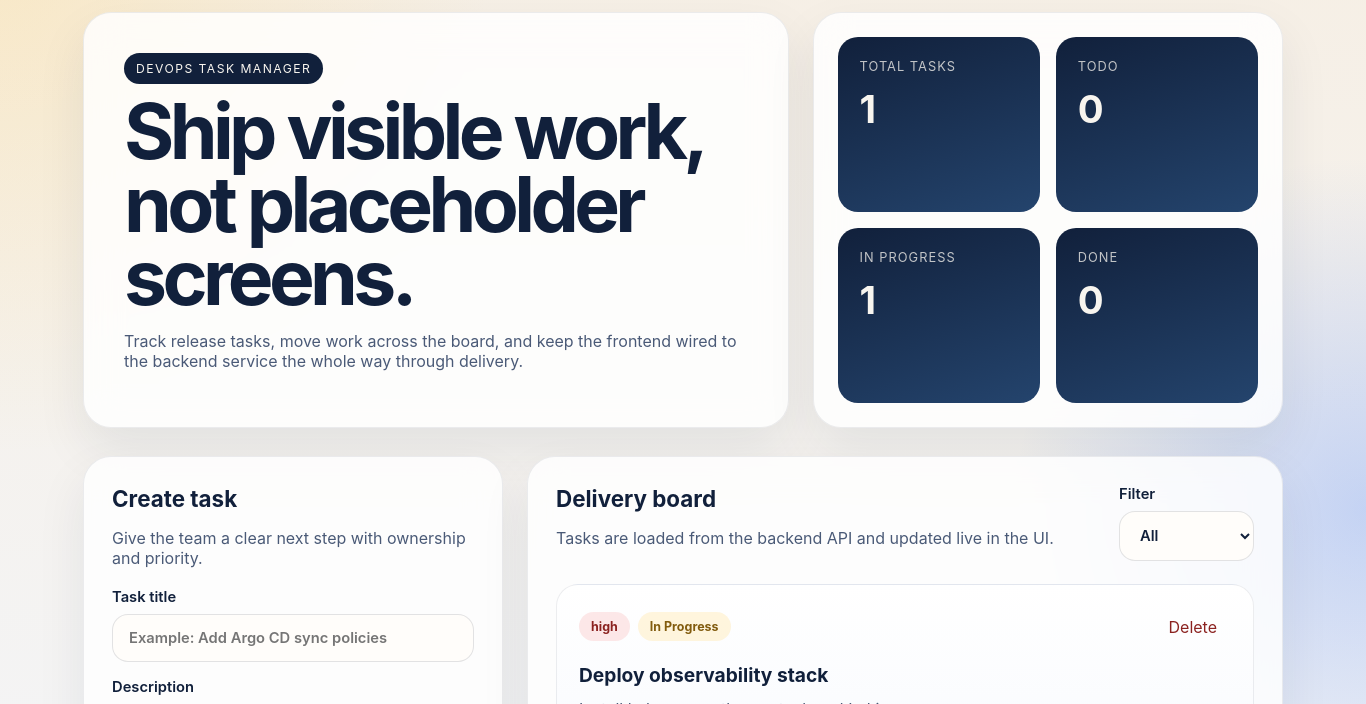
Test: App › creates a task from the form
The image size is (1366, 704).
Expected: the heading "Deploy observability stack" is shown, [579,663,828,687]
Type "Create frontend board" into the field labelled "Task title" at (293, 638), box [112,614,474,662]
(page scrolled)
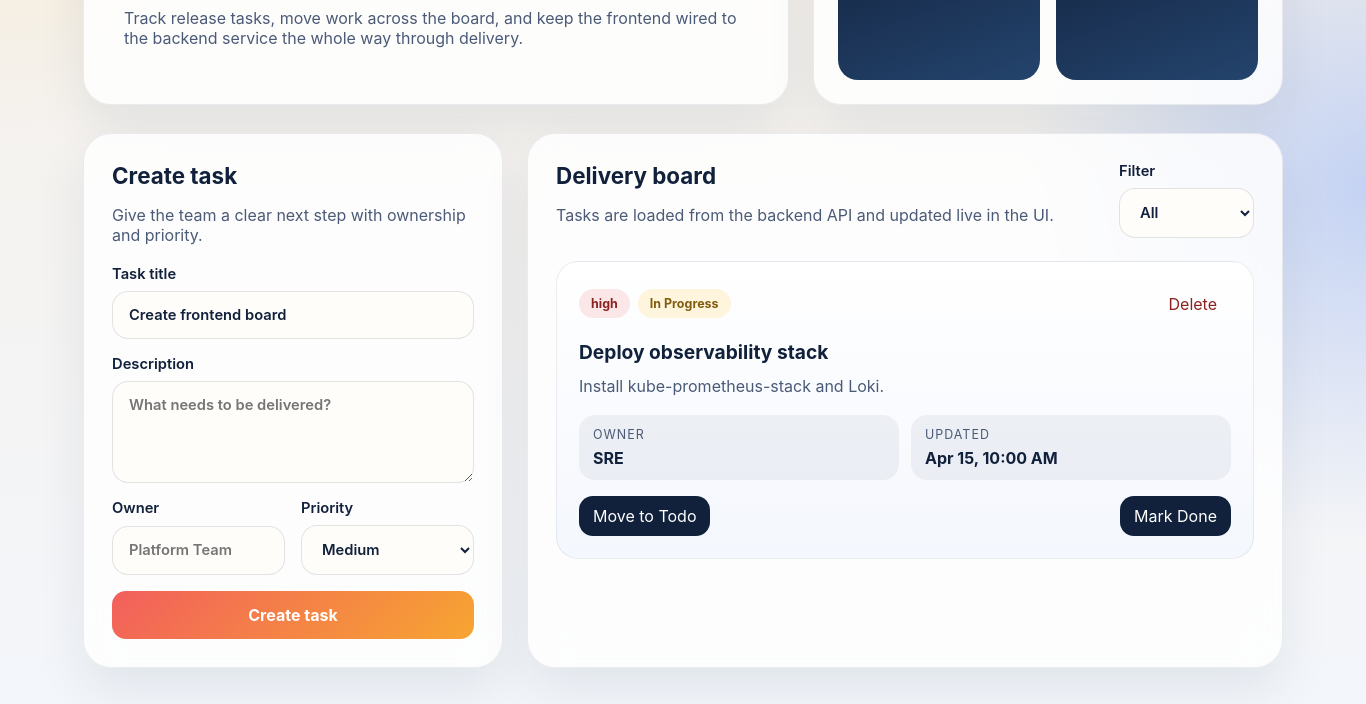
Type "Replace the starter screen." into the text box labelled "Description" at (293, 432), box [112,381,474,483]
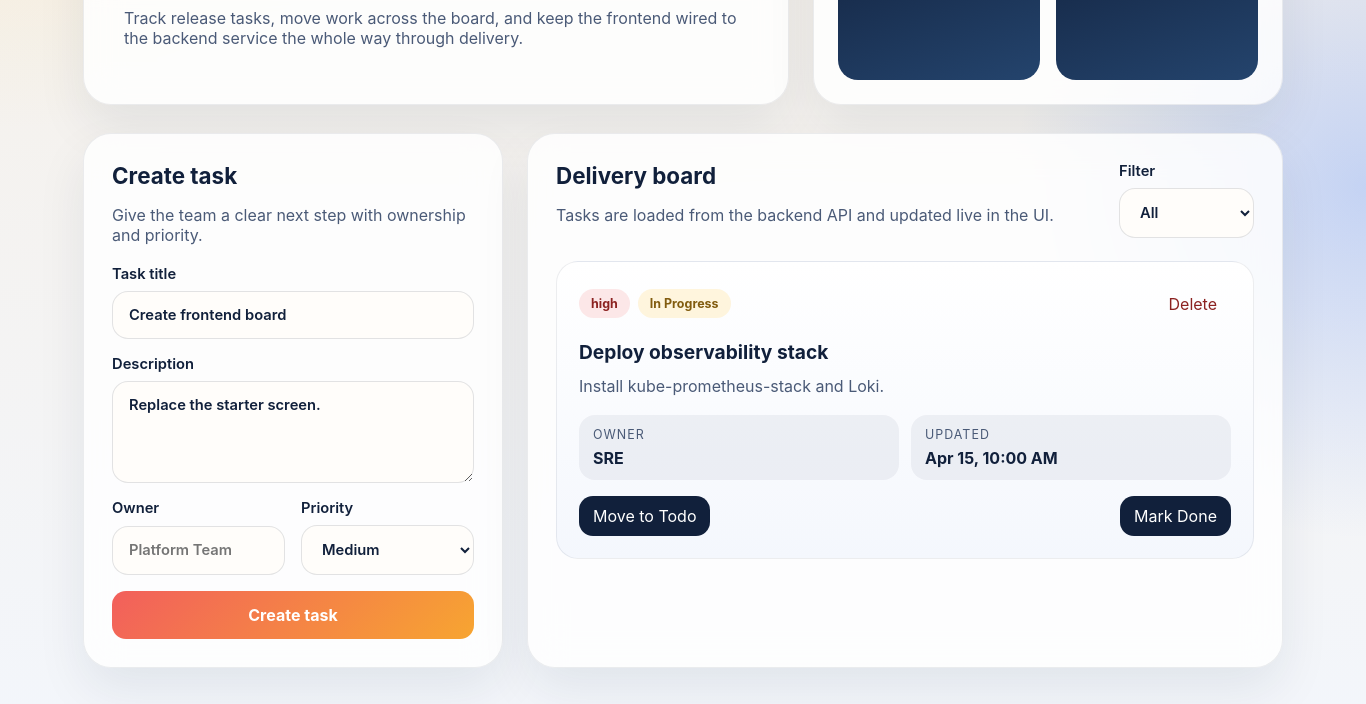
Type "Frontend" into the field labelled "Owner" at (198, 550), box [112,526,285,575]
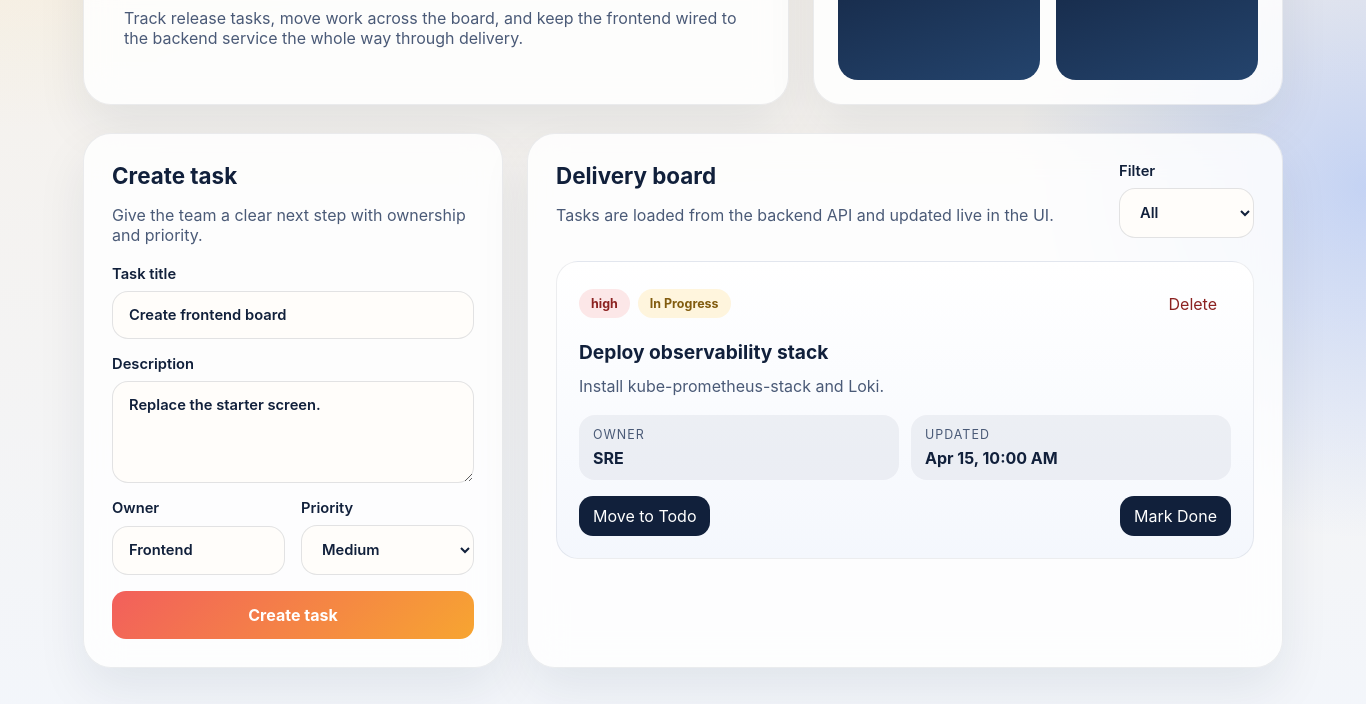
Click the button "Create task" at (293, 615), box [112,591,474,639]
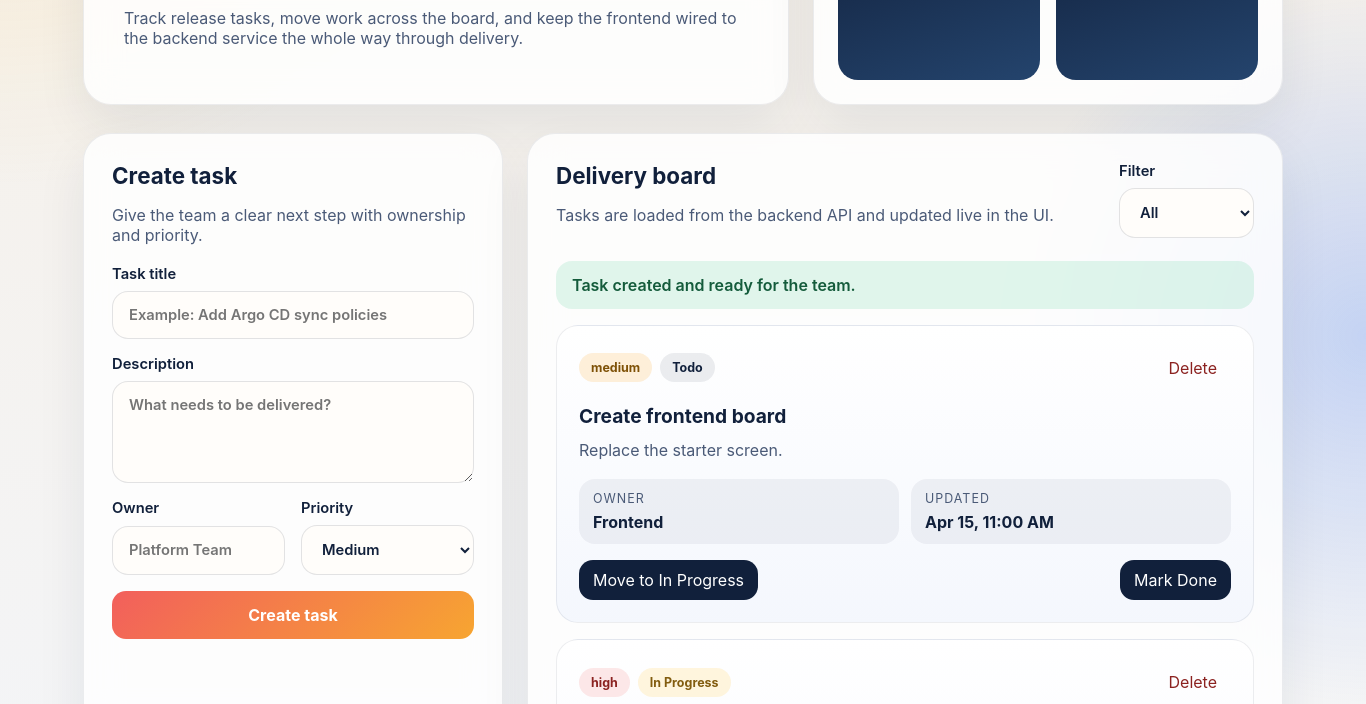
Result: the text "Task created and ready for the team." is shown at [572,275,856,295]
Result: the heading "Create frontend board" is shown at [579,404,786,428]
